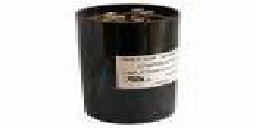Electrolytic-Capacitor: (74, 1, 182, 124)
